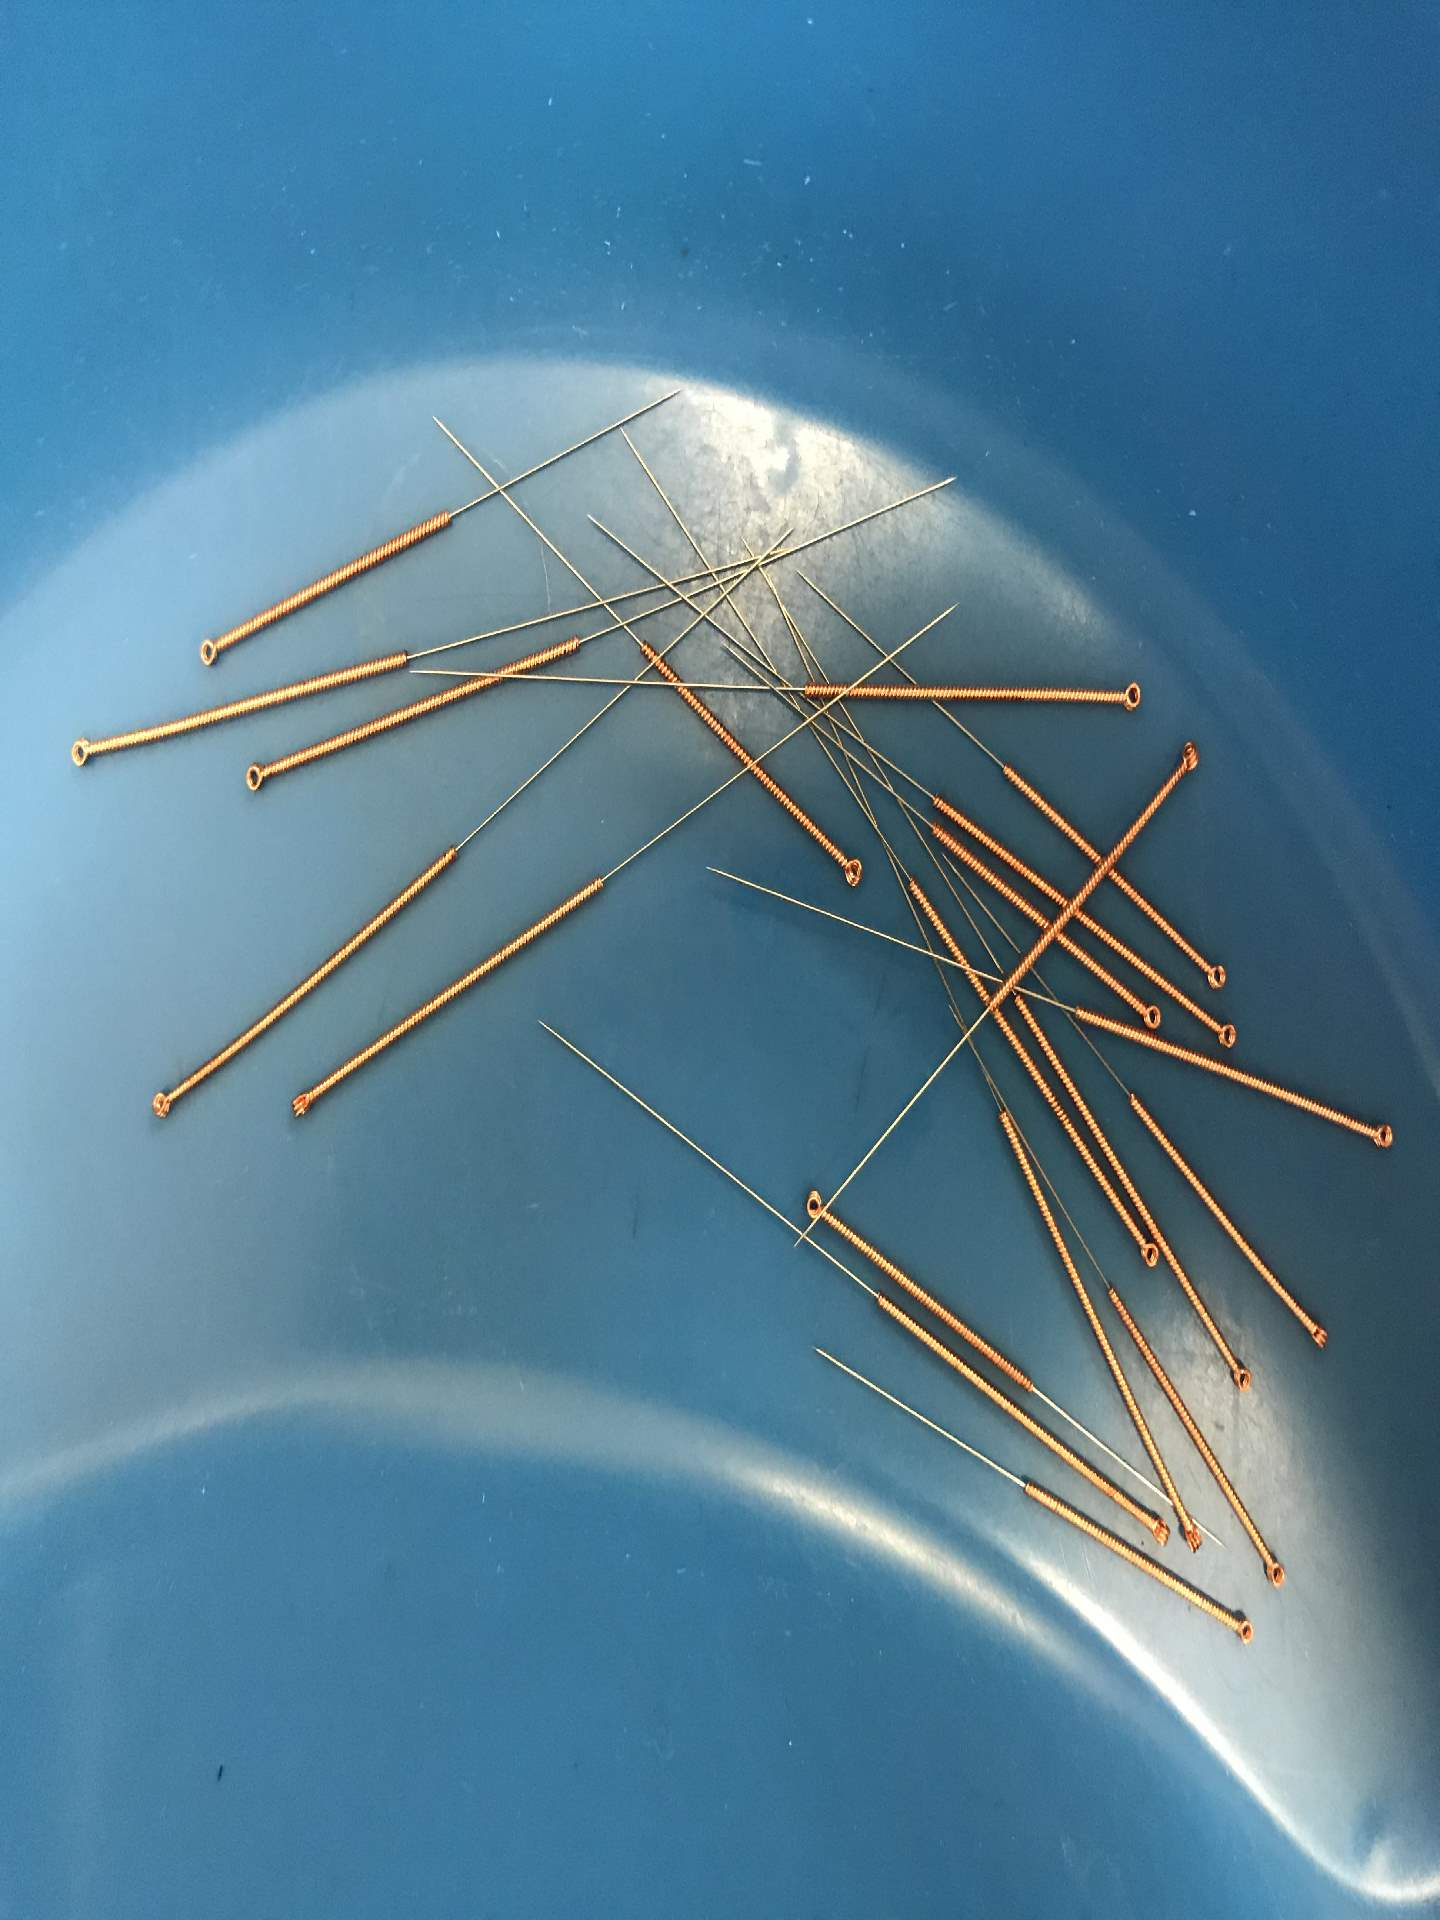needle: (1106, 667, 1153, 726), (54, 723, 106, 776), (141, 1072, 185, 1129), (1293, 1303, 1336, 1361), (826, 844, 874, 893), (1354, 1108, 1404, 1157), (185, 624, 231, 673), (1172, 1507, 1212, 1565), (1166, 729, 1207, 783), (1201, 1005, 1246, 1054), (280, 1079, 324, 1129), (1193, 948, 1236, 999), (233, 751, 278, 798), (1218, 1606, 1263, 1652), (1252, 1547, 1293, 1598), (797, 1179, 836, 1231), (1128, 992, 1172, 1034), (1139, 1509, 1178, 1556), (1222, 1352, 1258, 1398), (1128, 1237, 1165, 1277)
